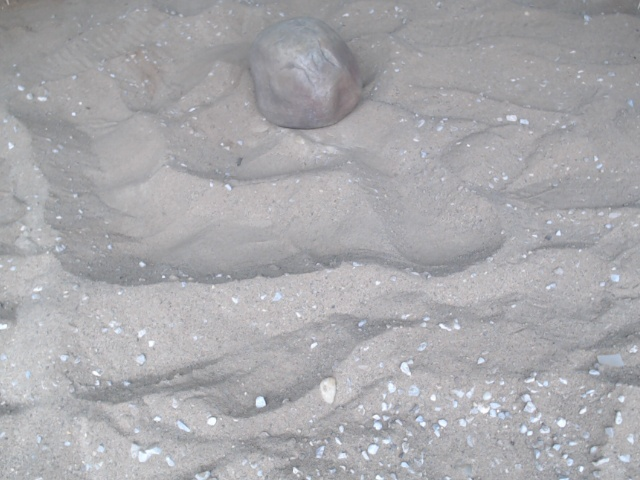rock: (242, 10, 369, 136)
